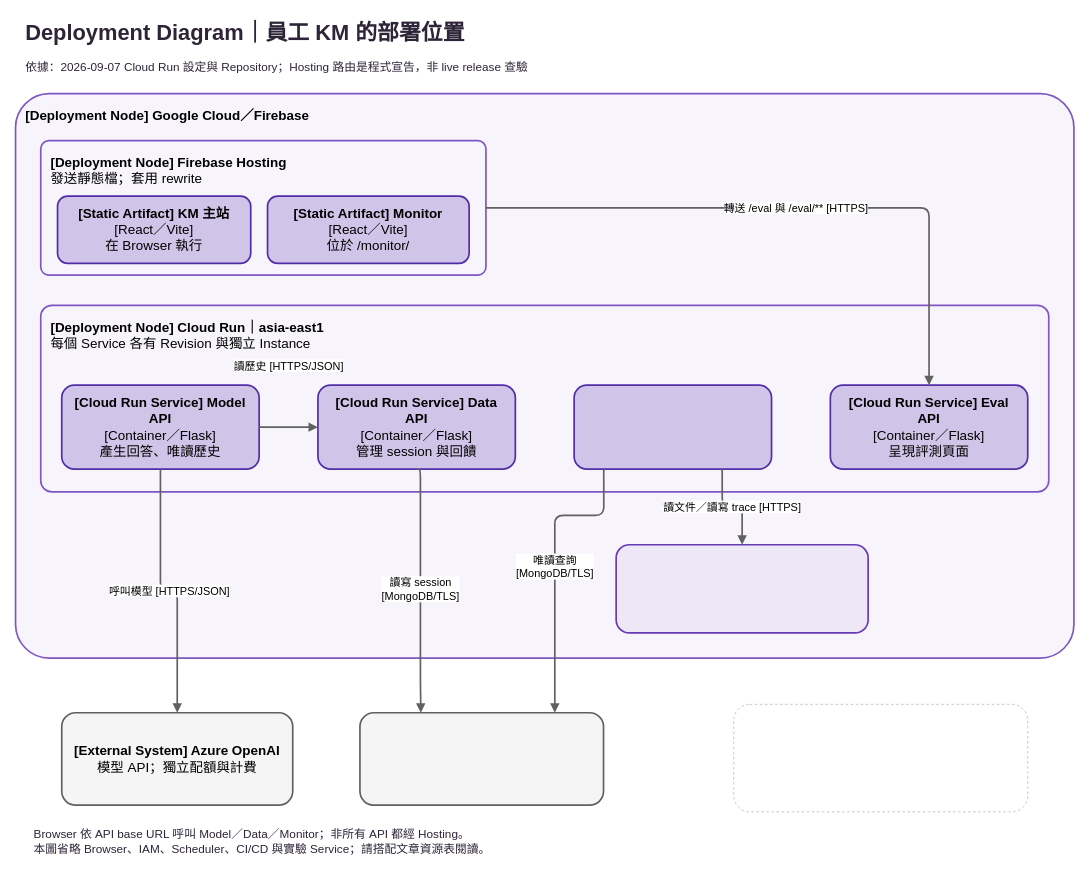
Image size: 1089x874. Some labels were removed from this diagram. Here are the shapes that lost their labels. From the top down, the centre of each, then its label:
At point 672,427: "[Cloud Run Service] Monitor API [Container／Flask] 查詢、聚合與預先計算".
At point 742,588: "[Infrastructure Node] Cloud Storage 文件／catalog／trace JSON 獨立於 Container 的物件".
At point 481,758: "[External System] MongoDB 對話與回饋；Monitor 唯讀查詢".
At point 880,758: "圖例（Legend） 紫色框：雲端部署節點／KM 產物 灰色框：GCP 外部依賴 單向實線：標示動作與協定".
